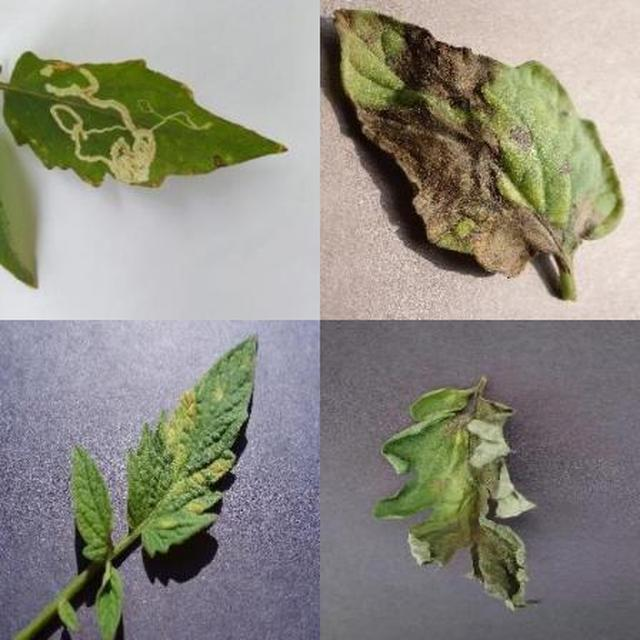Leaf Miner: (39, 105, 640, 640)
